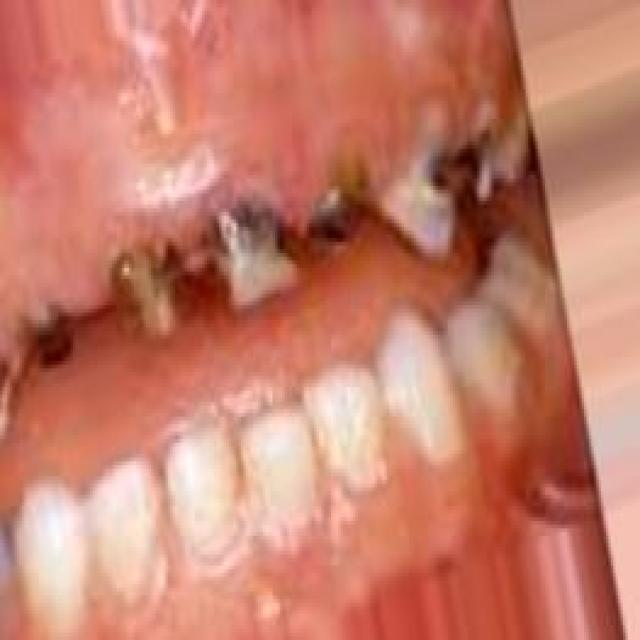caries: (205, 188, 302, 316), (103, 227, 196, 357), (384, 103, 458, 260), (306, 146, 376, 257), (461, 93, 504, 209), (28, 292, 81, 379)
